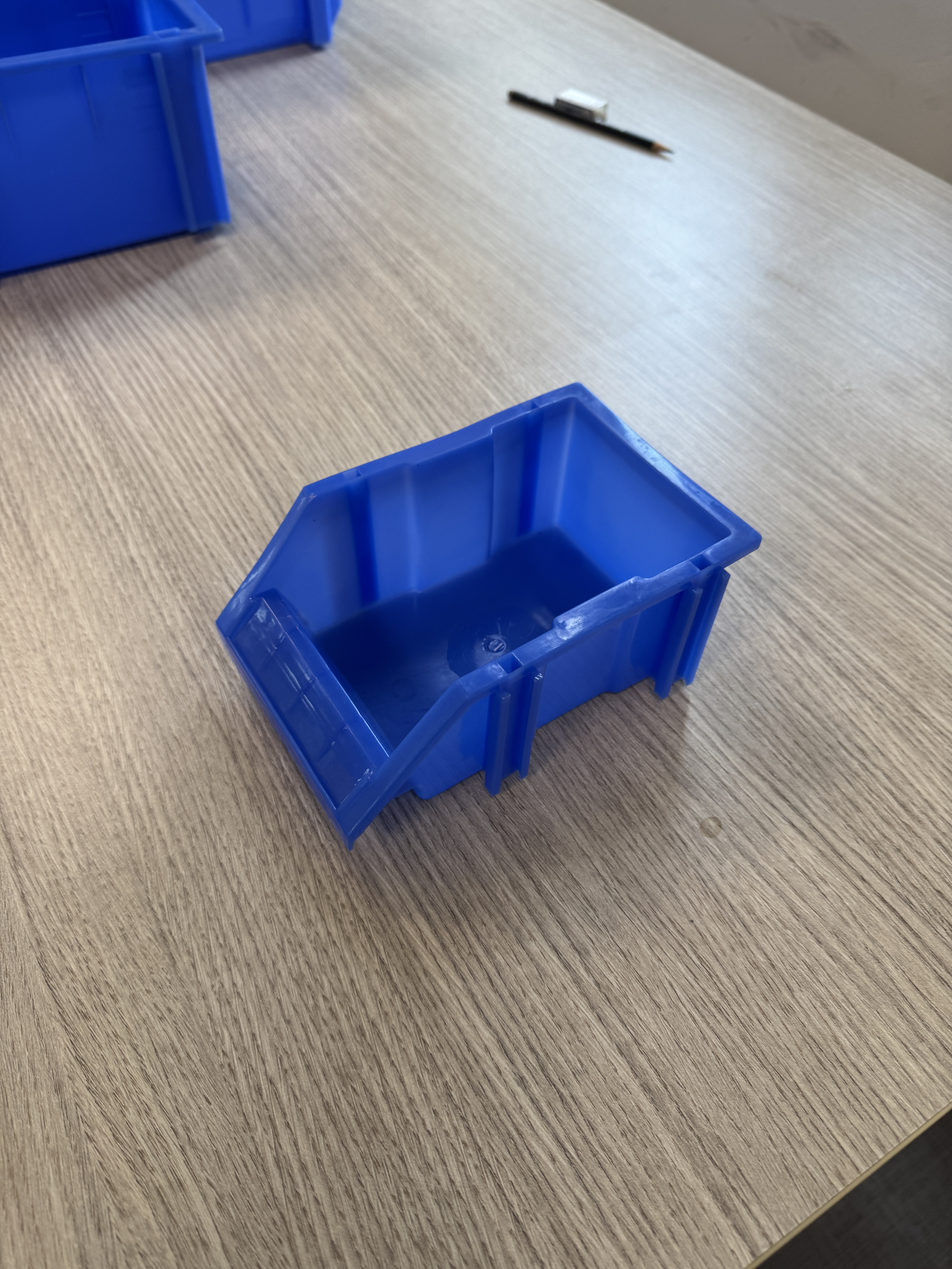Bin Boundary: (245, 313, 731, 773)
